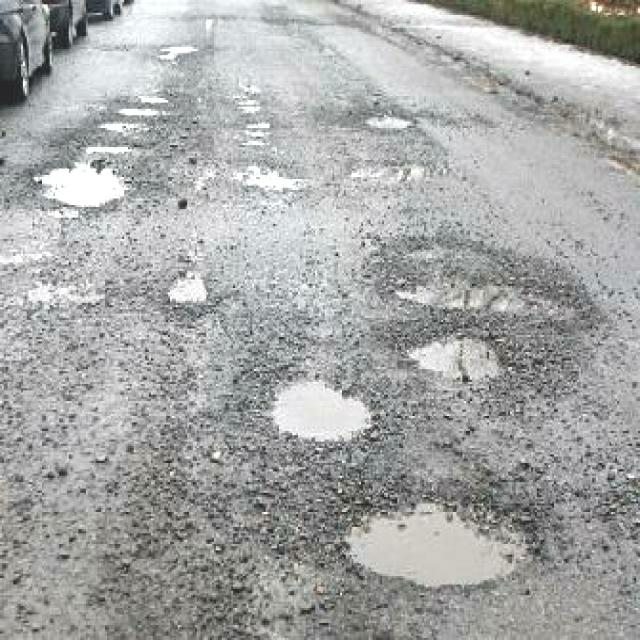Pothole: (338, 484, 544, 587), (376, 239, 588, 318), (267, 365, 384, 446), (401, 320, 525, 384), (31, 156, 132, 207), (164, 269, 214, 305), (365, 111, 418, 130), (159, 38, 201, 60), (117, 100, 162, 115), (99, 117, 147, 128)
